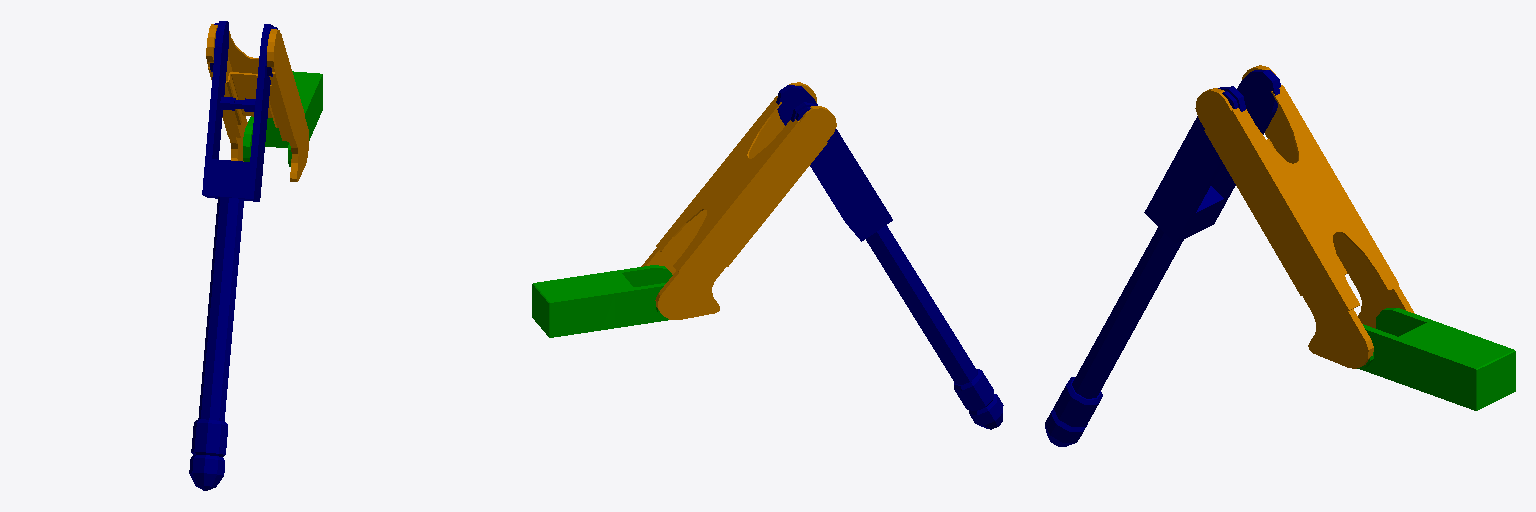
The robot description file, URDF, robot "hexapod":
<?xml version="1.0"?>
<robot name="hexapod">

    <link name="base">
        <visual>
            <geometry>
                <mesh filename="package://hexapod/models/hexapod/meshes/base/base.stl" scale="0.8 0.8 1.8"/>
            </geometry>
            <origin xyz="0.0 0 0"/>
            <material name="red">
                <color rgba="0.5 0 0.2 1"/>
            </material>
        </visual>
        <inertial>
            <mass value="2"/>
            <inertia ixx="0.04" ixy="0.0" ixz="0.0" iyy="0.17" iyz="0.0" izz="0.25"/>
        </inertial>    
        <collision>
            <geometry>
                <mesh filename="package://hexapod/models/hexapod/meshes/base/base.stl" scale="0.8 0.8 1.8"/>
            <origin xyz="0.0 0.0 0"/>
            </geometry>
        </collision>
    </link>
    <gazebo reference="base">
        <kp>1000.0</kp>
        <kd>1000.0</kd>
        <mu1>0.5</mu1>
        <mu2>0.5</mu2>
        <material>Gazebo/Red</material>
    </gazebo>

    <link name="hipassembly_6">
	    <visual>
	      <origin rpy="0.0 0.0 0.0" xyz="0.0 0.0 0.0"/>
	      <geometry>
	            <mesh filename="package://hexapod/models/hexapod/meshes/leg/assembler.stl" scale="1 1 1"/>
	      </geometry>
            <material name="green">
                <color rgba="0 0.6 0 1"/>
            </material>
	    </visual> 
        <collision>
            <origin rpy="0.0 0.0 0.0" xyz="0.0 0.0 0.0"/>
	        <geometry>
	            <mesh filename="package://hexapod/models/hexapod/meshes/leg/assembler.stl" scale="1 1 1"/>
	        </geometry> 
        </collision>   
        <inertial>
            <mass value="2"/>
            <inertia ixx="0.04" ixy="0.0" ixz="0.0" iyy="0.17" iyz="0.0" izz="0.25"/>
        </inertial>          
    </link>

    <gazebo reference="hipassembly_6">
        <kp>1000.0</kp>
        <kd>1000.0</kd>
        <mu1>0.5</mu1>
        <mu2>0.5</mu2>
        <material>Gazebo/Green</material>
    </gazebo>

    <link name="upperleg_6">
	    <visual>
	      <origin rpy="0.0 0.0 0.0" xyz="0.0 0.0 0.0"/>
	      <geometry>
	            <mesh filename="package://hexapod/models/hexapod/meshes/leg/upperleg.stl" scale="0.8 1 1"/>
	      </geometry>
            <material name="orange">
                <color rgba="0.8 0.5 0 1"/>
            </material>	  
	    </visual>
        <collision>
            <origin rpy="0.0 0.0 0.0" xyz="0.0 0.0 0.0"/>
	        <geometry>
	            <mesh filename="package://hexapod/models/hexapod/meshes/leg/upperleg.stl" scale="0.8 1 1"/>
	        </geometry> 
        </collision>   
        <inertial>
            <mass value="2"/>
            <inertia ixx="0.04" ixy="0.0" ixz="0.0" iyy="0.17" iyz="0.0" izz="0.25"/>
        </inertial>   
    </link>

    <gazebo reference="upperleg_6">
        <kp>1000.0</kp>
        <kd>1000.0</kd>
        <mu1>0.5</mu1>
        <mu2>0.5</mu2>
        <material>Gazebo/Orange</material>
    </gazebo>


    <link name="lowerleg_6">
	    <visual>
          <origin rpy="0.0 0.0 0.0" xyz="0.0 0.0 0.0"/>
	      <geometry>
	            <mesh filename="package://hexapod/models/hexapod/meshes/leg/lowerleg.stl" scale="1.4 1 1"/>
	      </geometry>
            <material name="blue">
                <color rgba="0 0 0.5 1"/>
            </material>	  
        </visual> 
        <collision>
            <origin rpy="0.0 0.0 0.0" xyz="0.0 0.0 0.0"/>
	        <geometry>
	            <mesh filename="package://hexapod/models/hexapod/meshes/leg/lowerleg.stl" scale="1.4 1 1"/>
	        </geometry> 
        </collision>   
        <inertial>
            <mass value="2"/>
            <inertia ixx="0.04" ixy="0.0" ixz="0.0" iyy="0.17" iyz="0.0" izz="0.25"/>
        </inertial>       
    </link>
    <gazebo reference="lowerleg_6">
        <kp>100.0</kp>
        <kd>1000.0</kd>
        <mu1>0.5</mu1>
        <mu2>0.5</mu2>
        <material>Gazebo/Blue</material>
    </gazebo>
 
    <joint name="haa_joint_6" type="revolute">
        <origin xyz="-0.65 -0.45 0.03" rpy="0 0 0"/>
        <parent link="base"/>
        <child  link="hipassembly_6"/>
        <limit effort="200" lower="-3.847" upper="-0.707" velocity="1.0"/>
        <axis xyz="0 0 1"/>
        <dynamics damping="60.0" friction="4.0"/>
    </joint>

    <joint name="hfe_joint_6" type="revolute">
        <origin xyz="0.08 0.0 0.0" rpy="1.57 0.0 0.0"/>
        <parent link="hipassembly_6"/>
        <child  link="upperleg_6"/>
        <limit effort="200" lower="0.3" upper="1.4" velocity="1.0"/>
        <axis xyz="0 0 1"/>
        <dynamics damping="60.0" friction="4.0"/>
    </joint>

    <joint name="kfe_joint_6" type="revolute">
        <origin xyz="0.27 0.0 0.0" rpy="0.0 0.0 0.0"/>
        <parent link="upperleg_6"/>
        <child  link="lowerleg_6"/>
        <limit effort="200" lower="-2.27" upper="-1.57" velocity="1.0"/>
        <axis xyz="0 0 1"/>
        <dynamics damping="60.0" friction="4.0"/>
    </joint>

    <gazebo>
        <plugin filename="libgazebo_ros2_control.so" name="gazebo_ros2_control">
            <robot_sim_type>gazebo_ros2_control/GazeboSystem</robot_sim_type>
            <parameters>[local-path]/Project/Hexapod/src/hex/config/controller_configuration.yaml</parameters>
        </plugin>
    </gazebo>

    <ros2_control name="GazeboSystem" type="system">
        <hardware>
            <plugin>gazebo_ros2_control/GazeboSystem</plugin>
        </hardware> 

        <joint name="haa_joint_6">
            <command_interface name="position">
                <param name="min">-3.8</param>
                <param name="max">-0.707</param>
            </command_interface>
            <state_interface name="position"/>
            <state_interface name="velocity"/>
            <state_interface name="effort"/>
        </joint>

        <joint name="hfe_joint_6">
            <command_interface name="position">
                <param name="min">0.3</param>
                <param name="max">1.4</param>
            </command_interface>
            <state_interface name="position"/>
            <state_interface name="velocity"/>
            <state_interface name="effort"/>
        </joint>

        <joint name="kfe_joint_6">
            <command_interface name="position">
                <param name="min">-2.27</param>
                <param name="max">-1.57</param>
            </command_interface>
            <state_interface name="position"/>
            <state_interface name="velocity"/>
            <state_interface name="effort"/>
        </joint>
    </ros2_control>




</robot>

--- What the picture shows (computed from the rendered views, not written in the file) ---
The picture shows the robot from 3 angles, left to right: view 1: azimuth 30°, elevation 25°; view 2: azimuth 150°, elevation 25°; view 3: azimuth 270°, elevation 25°; orthographic projection.
Robot: hexapod — 4 links, 3 joints (3 revolute); root link base; default pose: all joints at 0 but 3 set to mid-range because 0 is outside their limits (haa_joint_6 = -2.28, hfe_joint_6 = 0.85, kfe_joint_6 = -1.92).
Links seen in each view (by area): view 1: lowerleg_6, upperleg_6, hipassembly_6; view 2: upperleg_6, lowerleg_6, hipassembly_6; view 3: upperleg_6, lowerleg_6, hipassembly_6.
Boxes of the visible links, left/top/right/bottom form: lowerleg_6: left=189, top=21, right=277, bottom=490; upperleg_6: left=206, top=24, right=308, bottom=181; hipassembly_6: left=243, top=71, right=322, bottom=166; upperleg_6: left=641, top=82, right=836, bottom=319; lowerleg_6: left=776, top=85, right=1003, bottom=429; hipassembly_6: left=532, top=265, right=672, bottom=337; upperleg_6: left=1195, top=65, right=1414, bottom=368; lowerleg_6: left=1045, top=70, right=1280, bottom=446; hipassembly_6: left=1357, top=308, right=1515, bottom=410.
Size in the robot's own frame: 0.4095 by 0.4692 by 0.4758 metres.
3 mesh visuals loaded from 4 distinct referenced files (3 binary STL); not drawn: 1 (reference not matched to a file when rendering).